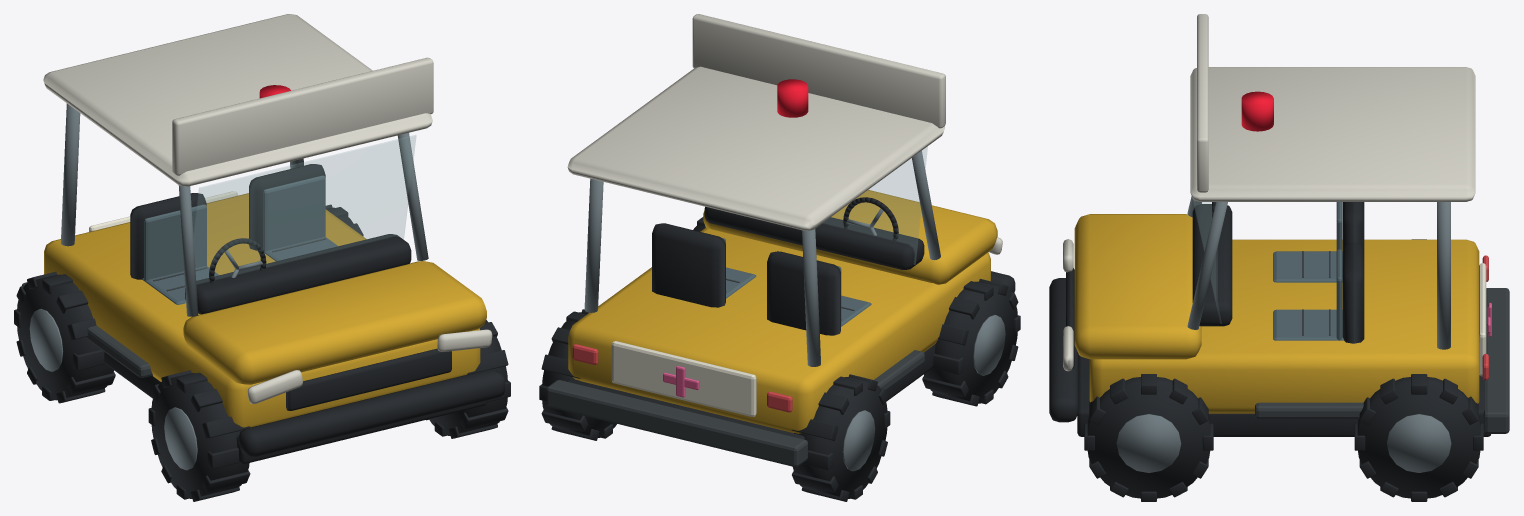
File: ambulance.glb
3 renders of one model, left to right at view 1: azimuth 30°, elevation 25°; view 2: azimuth 150°, elevation 25°; view 3: azimuth 270°, elevation 25°, orthographic. The views are drawn at different scales.
Visible parts, largest first — view 1: Marfil Mesh, Amarillo ambulancia Mesh, Goma Mesh, Parabrisas, Tropical upholstery, Goma Mesh.002, Goma Mesh.001, Metal Mesh, Goma Mesh.004, Llanta, Llanta.001, Tropical rear rubber (+1 smaller); view 2: Marfil Mesh, Amarillo ambulancia Mesh, Goma Mesh, Tropical rear rubber, Goma Mesh.001, Goma Mesh.002, Tropical rear ivory, Metal Mesh, Parabrisas, Goma Mesh.003, Llanta.001, Llanta (+5 smaller); view 3: Amarillo ambulancia Mesh, Marfil Mesh, Goma Mesh, Goma Mesh.004, Goma Mesh.003, Tropical rear rubber, Tropical upholstery, Metal Mesh, Llanta.003, Llanta.002, Baliza, Parabrisas (+1 smaller).
Part boxes in pixels (x1,y1,x2,y2): Marfil Mesh: (43, 14, 492, 403); Amarillo ambulancia Mesh: (44, 193, 486, 427); Goma Mesh: (104, 164, 505, 463); Parabrisas: (185, 135, 416, 302); Tropical upholstery: (142, 175, 337, 304); Goma Mesh.002: (148, 370, 250, 501); Goma Mesh.001: (14, 271, 115, 403); Metal Mesh: (61, 103, 428, 316); Goma Mesh.004: (426, 320, 510, 438); Llanta: (29, 309, 63, 371); Llanta.001: (164, 407, 197, 470); Tropical rear rubber: (22, 238, 325, 377); Marfil Mesh: (567, 14, 1002, 254); Amarillo ambulancia Mesh: (568, 190, 997, 433); Goma Mesh: (566, 206, 1015, 439); Tropical rear rubber: (546, 278, 924, 466); Goma Mesh.001: (792, 374, 890, 501); Goma Mesh.002: (922, 279, 1020, 406); Tropical rear ivory: (611, 341, 756, 416); Metal Mesh: (584, 151, 940, 366); Parabrisas: (823, 146, 927, 264); Goma Mesh.003: (539, 309, 616, 440); Llanta.001: (973, 314, 1005, 375); Llanta: (842, 410, 875, 471); Amarillo ambulancia Mesh: (1074, 214, 1479, 413); Marfil Mesh: (1063, 14, 1475, 371); Goma Mesh: (1049, 202, 1490, 436); Goma Mesh.004: (1084, 374, 1213, 501); Goma Mesh.003: (1354, 374, 1483, 501); Tropical rear rubber: (1255, 251, 1509, 433); Tropical upholstery: (1273, 202, 1343, 340); Metal Mesh: (1187, 196, 1450, 349); Llanta.003: (1116, 414, 1181, 472); Llanta.002: (1387, 414, 1451, 472); Baliza: (1241, 91, 1273, 131); Parabrisas: (1192, 198, 1221, 323).
Bounding box in the file's own units: 3.22 × 3.62 × 4.27.
